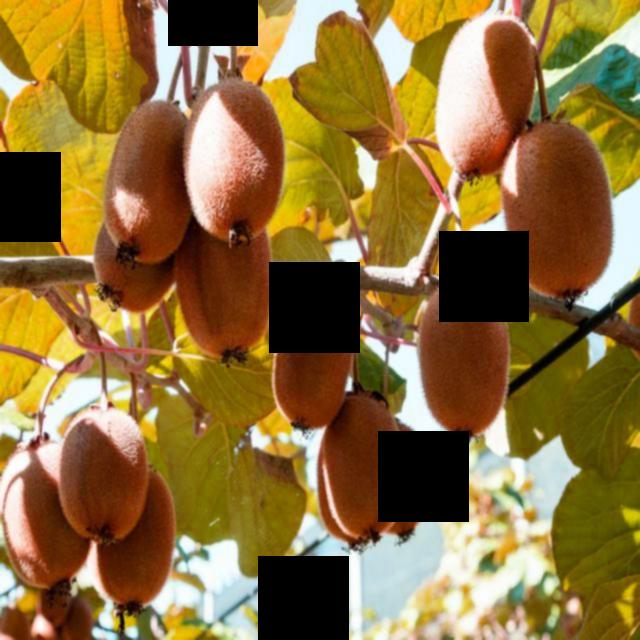kiwi: (502, 112, 616, 302), (174, 180, 273, 369), (435, 11, 539, 180), (185, 74, 285, 245), (416, 279, 517, 445), (93, 173, 209, 313), (1, 434, 92, 597), (87, 452, 177, 613), (107, 100, 190, 263), (321, 386, 403, 543), (271, 283, 356, 433), (60, 403, 148, 547), (360, 411, 434, 547)
